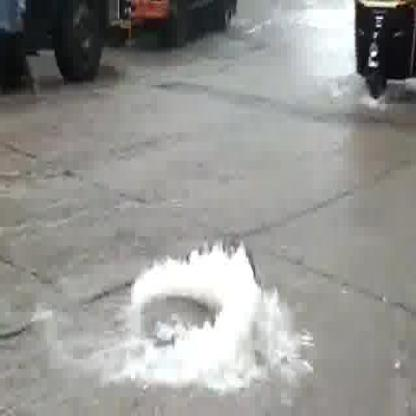drainage overflow-repair-: (102, 247, 266, 391)
